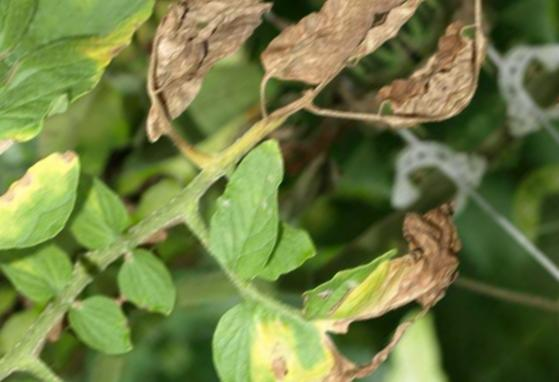Tomato Early blight leaf: (0, 0, 213, 169), (175, 270, 395, 382), (3, 121, 122, 240)
Tomato leaf: (176, 126, 341, 292)
